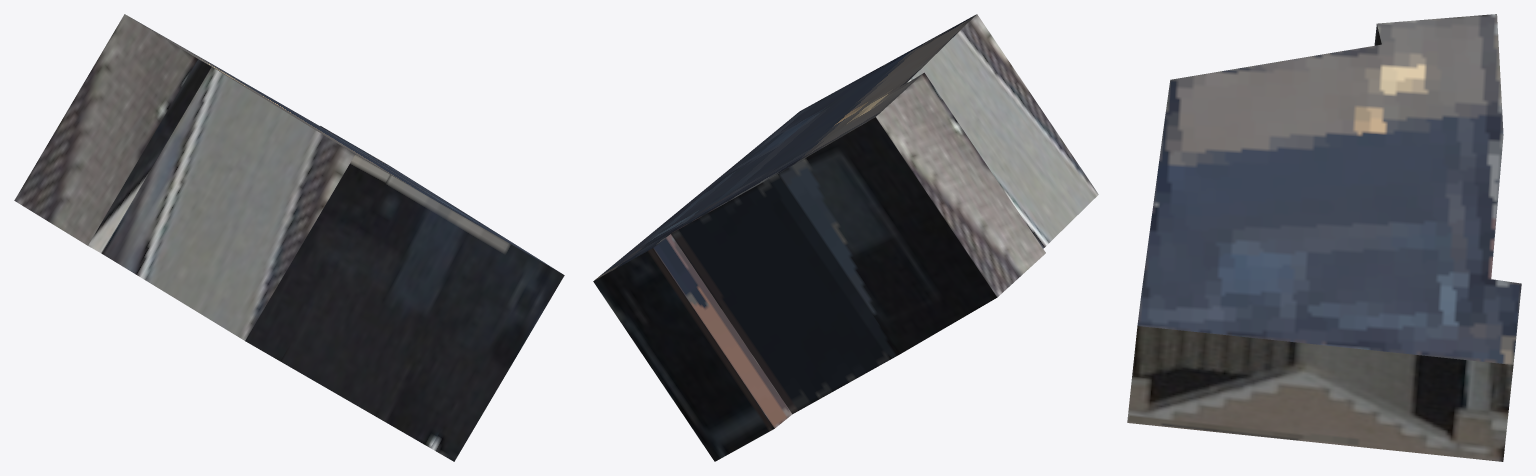
3 views of the same model, side by side, from view 1: azimuth 30°, elevation 25°; view 2: azimuth 150°, elevation 25°; view 3: azimuth 270°, elevation 25° (orthographic). The views are drawn at different scales.
Parts seen in each view (by area): view 1: BAG_0599100010059655 (×3); view 2: BAG_0599100010059655 (×3); view 3: BAG_0599100010059655.
Boxes of the visible parts, bbox=[...] form: BAG_0599100010059655 (×3): bbox=[14, 14, 564, 461]; BAG_0599100010059655 (×3): bbox=[593, 14, 1098, 461]; BAG_0599100010059655: bbox=[1127, 14, 1521, 461].
Size of the model in its own units: 5.3 by 4.94 by 4.74.
1 material, 1 textured.
